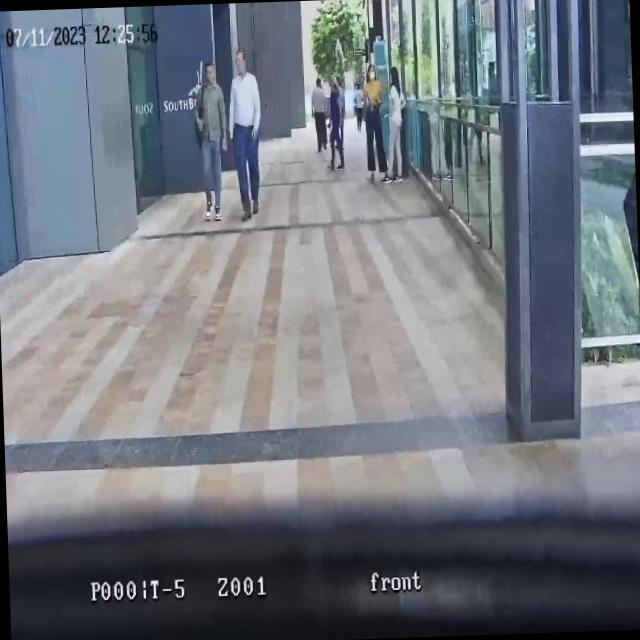person: (226, 46, 266, 221), (193, 59, 230, 222), (379, 67, 408, 184), (362, 64, 388, 182), (326, 78, 344, 170), (310, 76, 330, 152), (352, 80, 366, 130)
